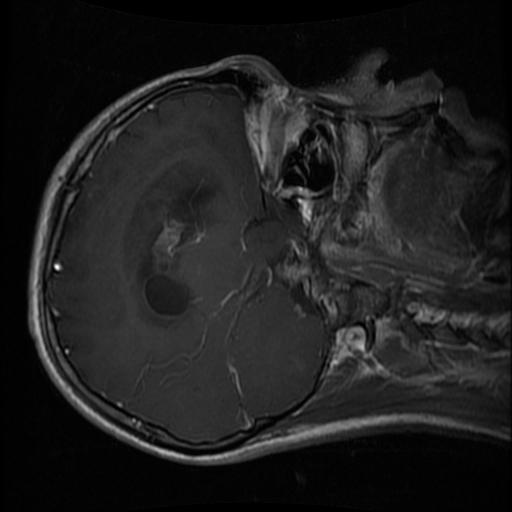glioma: (139, 189, 219, 323)
